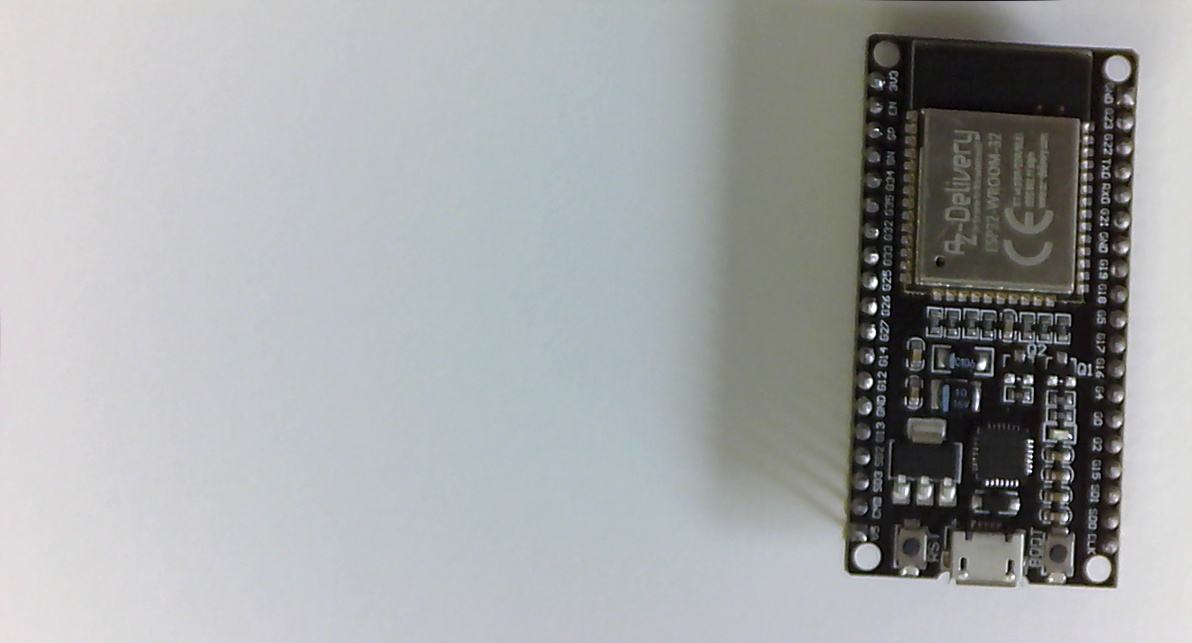esp32: (831, 25, 1144, 594)
